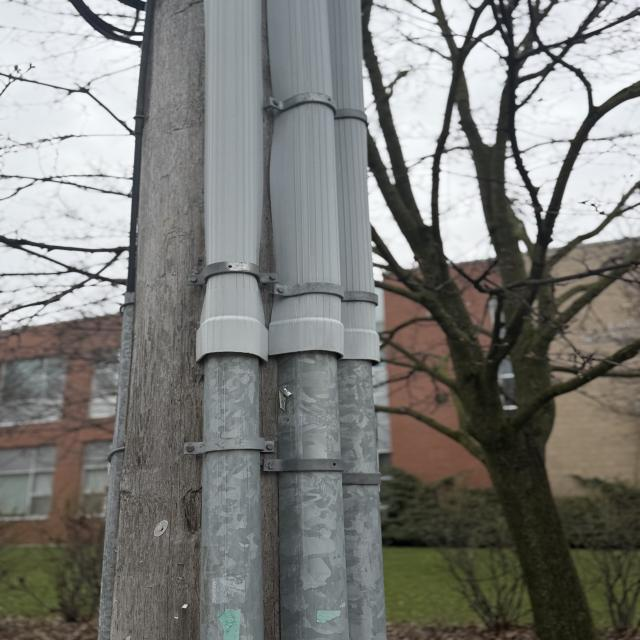Electrical Pole: (87, 2, 394, 639)
